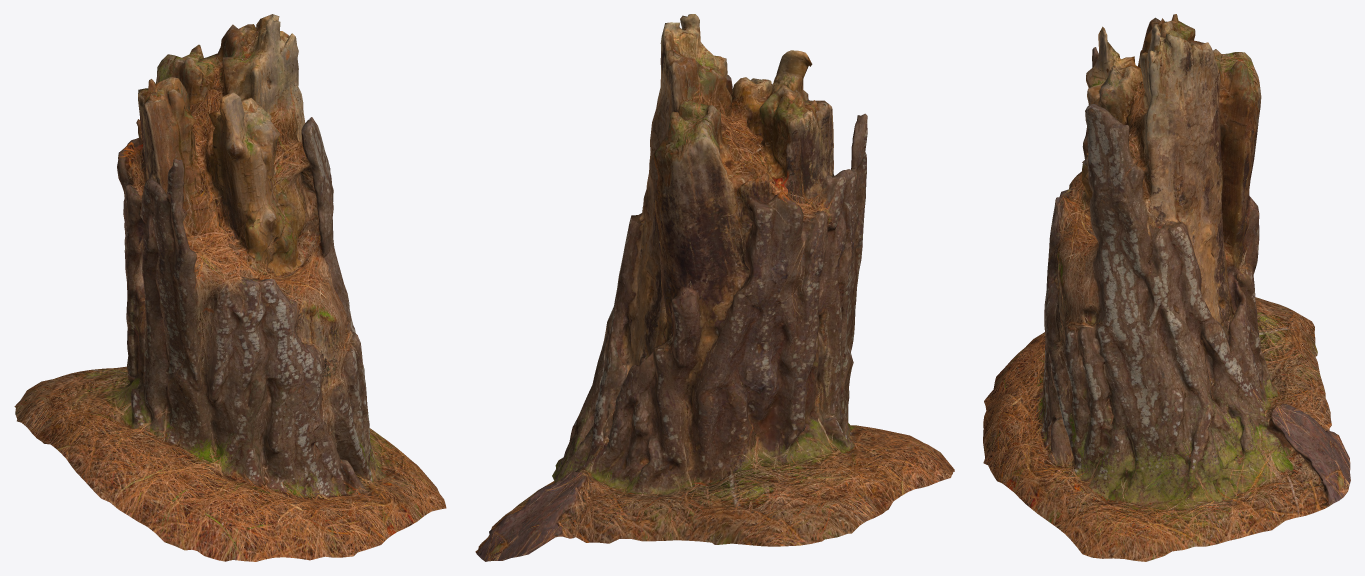
Rendered from tree.opt.glb.
The picture shows the model from 3 angles, left to right: view 1: azimuth 30°, elevation 25°; view 2: azimuth 150°, elevation 25°; view 3: azimuth 270°, elevation 25°; orthographic projection. The views are drawn at different scales.
Visible parts, largest first — view 1: Aset_trees_stumps_L_rfxaw_LOD0; view 2: Aset_trees_stumps_L_rfxaw_LOD0; view 3: Aset_trees_stumps_L_rfxaw_LOD0.
Boxes of the visible parts, x1,y1,x2,y2 form: Aset_trees_stumps_L_rfxaw_LOD0: [14, 14, 446, 561]; Aset_trees_stumps_L_rfxaw_LOD0: [475, 14, 954, 561]; Aset_trees_stumps_L_rfxaw_LOD0: [983, 14, 1350, 561].
Size of the model in its own units: 0.62 by 0.8189 by 0.5845.
1 material, 1 textured.
